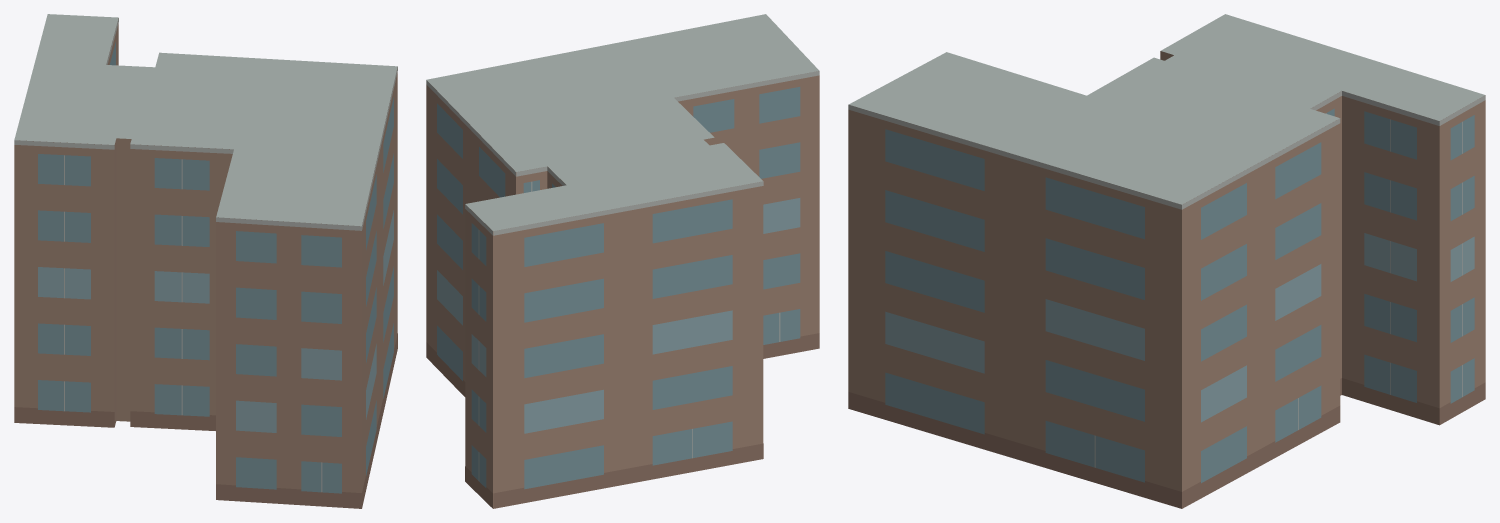
The model's file is survey-upis-32735998.glb.
3 views of the same model, side by side, from view 1: azimuth 30°, elevation 25°; view 2: azimuth 150°, elevation 25°; view 3: azimuth 270°, elevation 25° (orthographic). The views are drawn at different scales.
Visible parts, largest first — view 1: survey-upis-32735998.tmp; view 2: survey-upis-32735998.tmp; view 3: survey-upis-32735998.tmp.
Boxes of the visible parts, <box> form: survey-upis-32735998.tmp: <box>14,14,397,508</box>; survey-upis-32735998.tmp: <box>426,14,819,508</box>; survey-upis-32735998.tmp: <box>848,14,1485,508</box>.
Bounding box in the file's own units: 19.92 × 14.8 × 28.1.
